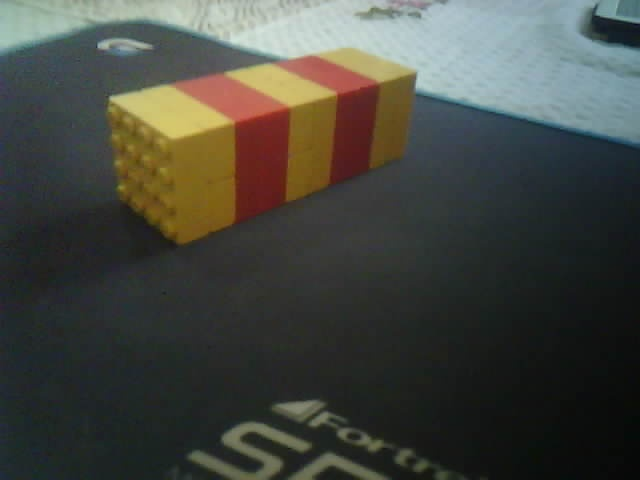lego: (105, 47, 418, 248)
